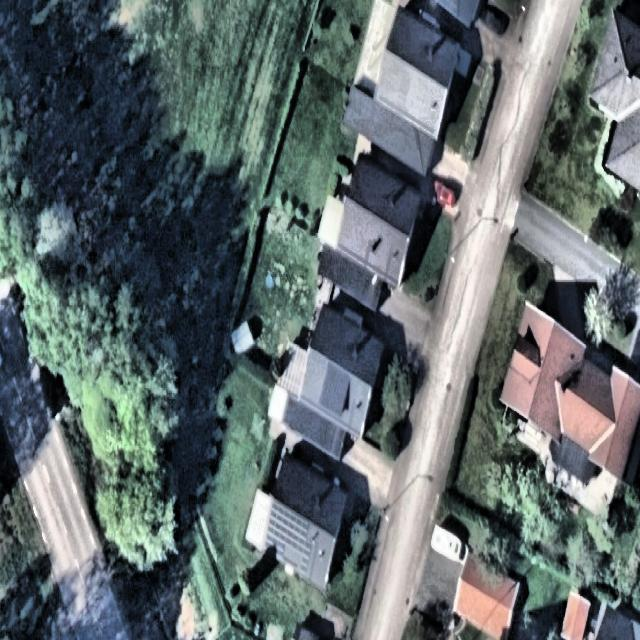roof_pv: (266, 502, 309, 548), (266, 531, 286, 562), (298, 542, 312, 582)
